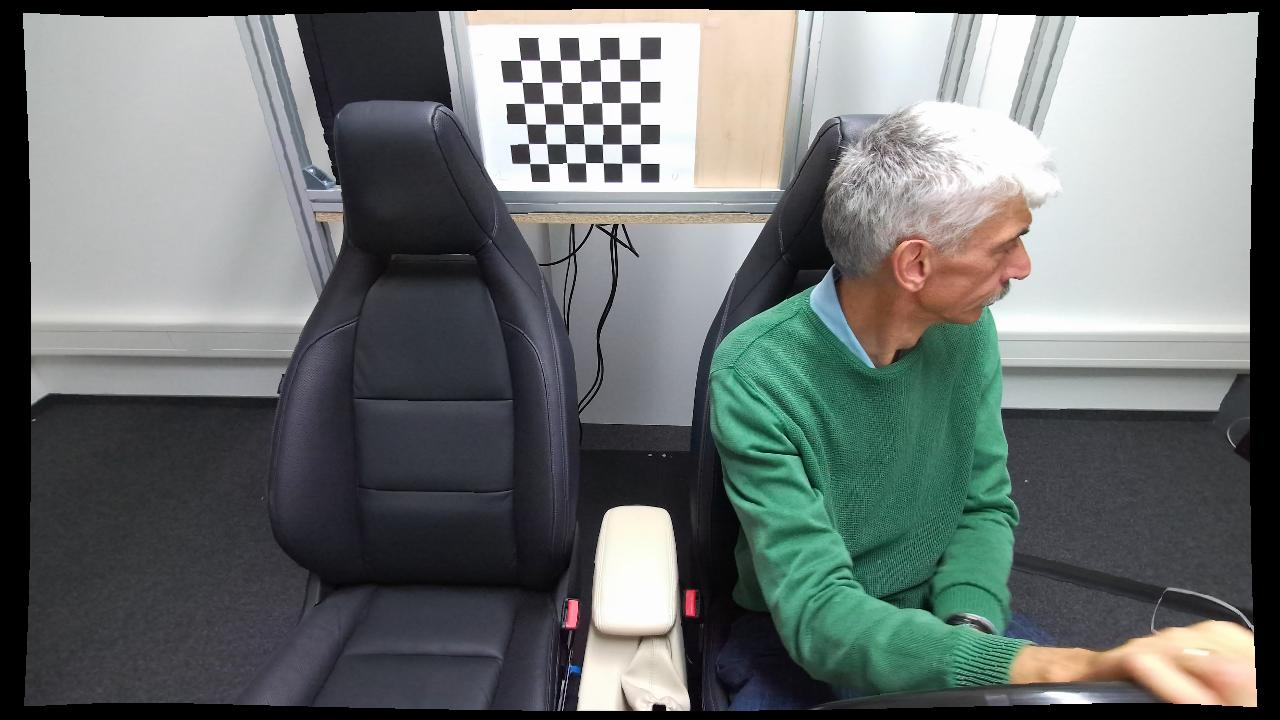Distracted: (703, 99, 1111, 715)
